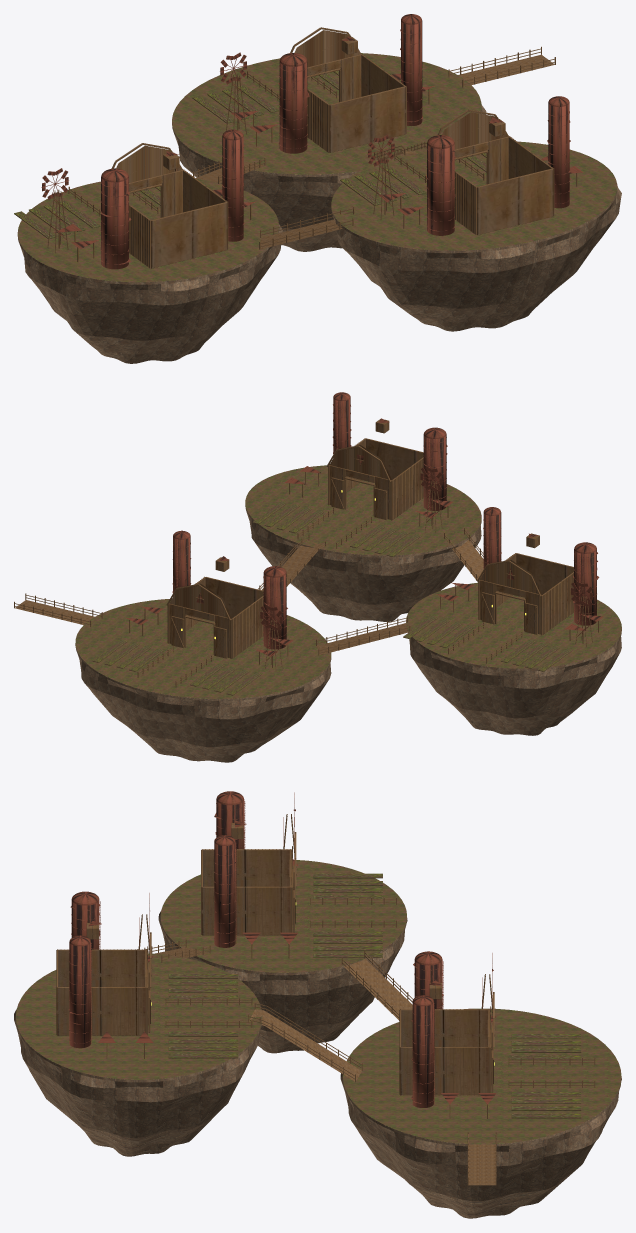
Rendered from farm-city-distant.glb.
3 renders of one model, top to bottom at view 1: azimuth 30°, elevation 25°; view 2: azimuth 150°, elevation 25°; view 3: azimuth 270°, elevation 25°, orthographic. The views are drawn at different scales.
Visible parts, largest first — view 1: Distrito das Sementes continuous cliff; view 2: Distrito das Sementes continuous cliff; view 3: Distrito das Sementes continuous cliff.
Part boxes in pixels (bbox=[...]): Distrito das Sementes continuous cliff: bbox=[14, 14, 621, 363]; Distrito das Sementes continuous cliff: bbox=[14, 392, 621, 762]; Distrito das Sementes continuous cliff: bbox=[14, 791, 621, 1218].
Size of the model in its own units: 134 by 54.9 by 113.
Materials: 8 (7 with a texture image).
